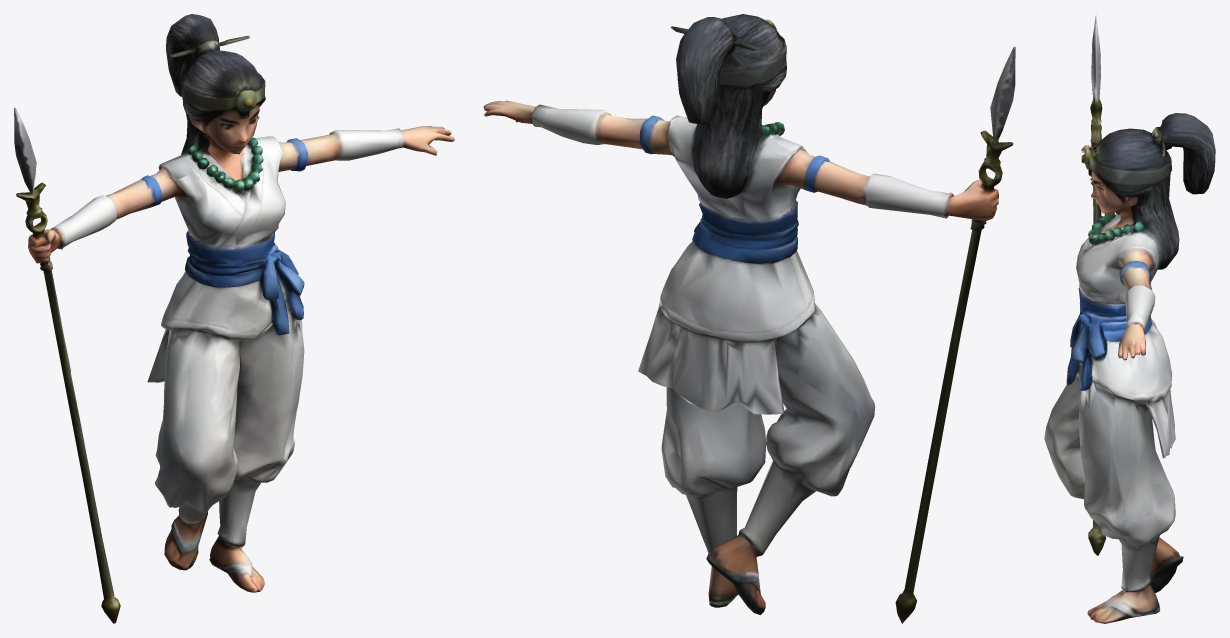
File: anc_goddess.glb
The picture shows the model from 3 angles, left to right: view 1: azimuth 30°, elevation 25°; view 2: azimuth 150°, elevation 25°; view 3: azimuth 270°, elevation 25°; orthographic projection. The views are drawn at different scales.
Visible parts, largest first — view 1: tripo_node_c58b576d-5588-4fdf-ae73-962bf9518bf6; view 2: tripo_node_c58b576d-5588-4fdf-ae73-962bf9518bf6; view 3: tripo_node_c58b576d-5588-4fdf-ae73-962bf9518bf6.
Part boxes in pixels (box(x1,y1,x2,y2)): tripo_node_c58b576d-5588-4fdf-ae73-962bf9518bf6: box(14, 14, 454, 623); tripo_node_c58b576d-5588-4fdf-ae73-962bf9518bf6: box(483, 14, 1015, 623); tripo_node_c58b576d-5588-4fdf-ae73-962bf9518bf6: box(1044, 14, 1215, 623).
Bounding box in the file's own units: 0.8777 × 0.9995 × 0.3108.
Materials: 1 (1 with a texture image).
